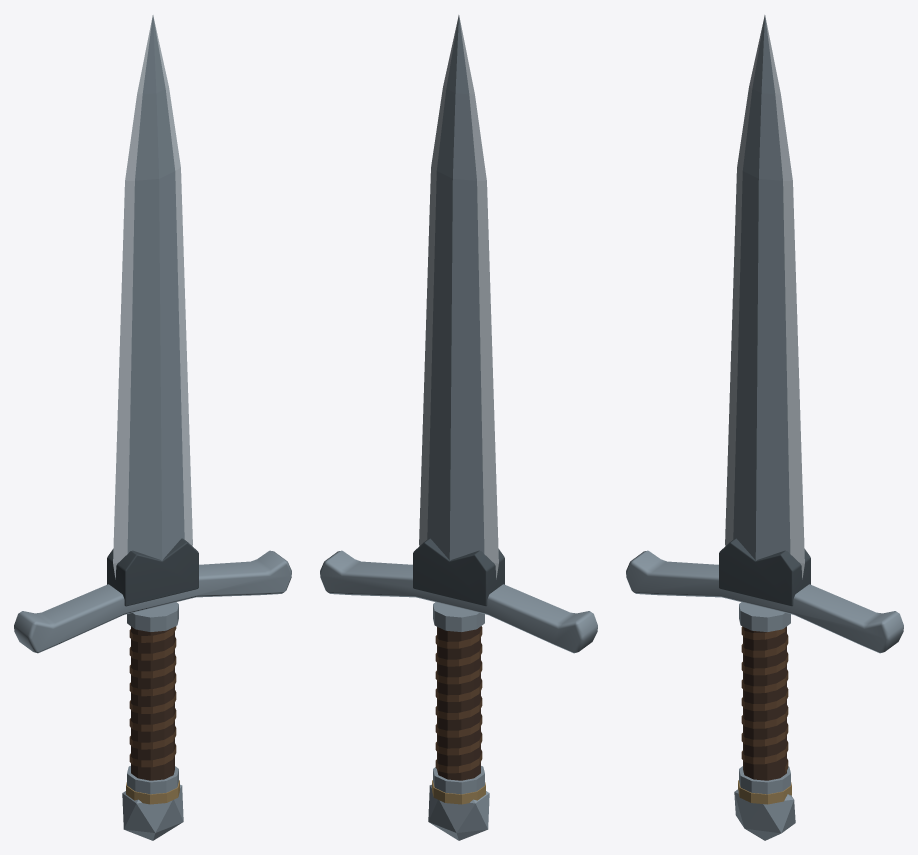
Rendered from Crownless_Iron_Sword.fbx.
3 views of the same model, side by side, from view 1: azimuth 30°, elevation 25°; view 2: azimuth 150°, elevation 25°; view 3: azimuth 330°, elevation 25° (orthographic).
Parts seen in each view (by area): view 1: Sword | refined ridged blade, Sword | plain swept crossguard, Sword | leather grip, Sword | steel rain guard, Sword | leather binding, Sword | simple iron pommel, Sword | upper ferrule, Sword | lower ferrule, Sword | pommel washer; view 2: Sword | refined ridged blade, Sword | plain swept crossguard, Sword | leather grip, Sword | steel rain guard, Sword | leather binding, Sword | simple iron pommel, Sword | upper ferrule, Sword | lower ferrule, Sword | pommel washer; view 3: Sword | refined ridged blade, Sword | plain swept crossguard, Sword | leather grip, Sword | steel rain guard, Sword | leather binding, Sword | simple iron pommel, Sword | upper ferrule, Sword | lower ferrule, Sword | pommel washer.
Part boxes in pixels (box(x1,y1,x2,y2)): Sword | refined ridged blade: box(113, 15, 192, 579); Sword | plain swept crossguard: box(14, 550, 291, 653); Sword | leather grip: box(131, 626, 174, 780); Sword | steel rain guard: box(107, 538, 198, 606); Sword | leather binding: box(129, 626, 176, 767); Sword | simple iron pommel: box(122, 784, 183, 840); Sword | upper ferrule: box(127, 602, 178, 631); Sword | lower ferrule: box(127, 766, 178, 794); Sword | pommel washer: box(126, 780, 179, 804); Sword | refined ridged blade: box(419, 15, 498, 579); Sword | plain swept crossguard: box(320, 550, 597, 653); Sword | leather grip: box(437, 626, 480, 780); Sword | steel rain guard: box(413, 538, 504, 606); Sword | leather binding: box(435, 626, 482, 773); Sword | simple iron pommel: box(428, 784, 489, 840); Sword | upper ferrule: box(433, 602, 484, 631); Sword | lower ferrule: box(433, 766, 484, 794); Sword | pommel washer: box(432, 780, 485, 804); Sword | refined ridged blade: box(725, 15, 804, 579); Sword | plain swept crossguard: box(626, 550, 903, 653); Sword | leather grip: box(743, 626, 786, 780); Sword | steel rain guard: box(719, 538, 810, 606); Sword | leather binding: box(741, 626, 788, 773); Sword | simple iron pommel: box(734, 789, 795, 840); Sword | upper ferrule: box(739, 602, 790, 631); Sword | lower ferrule: box(739, 766, 790, 794); Sword | pommel washer: box(738, 780, 791, 804).
Bounding box in the file's own units: 198 × 593 × 36.
